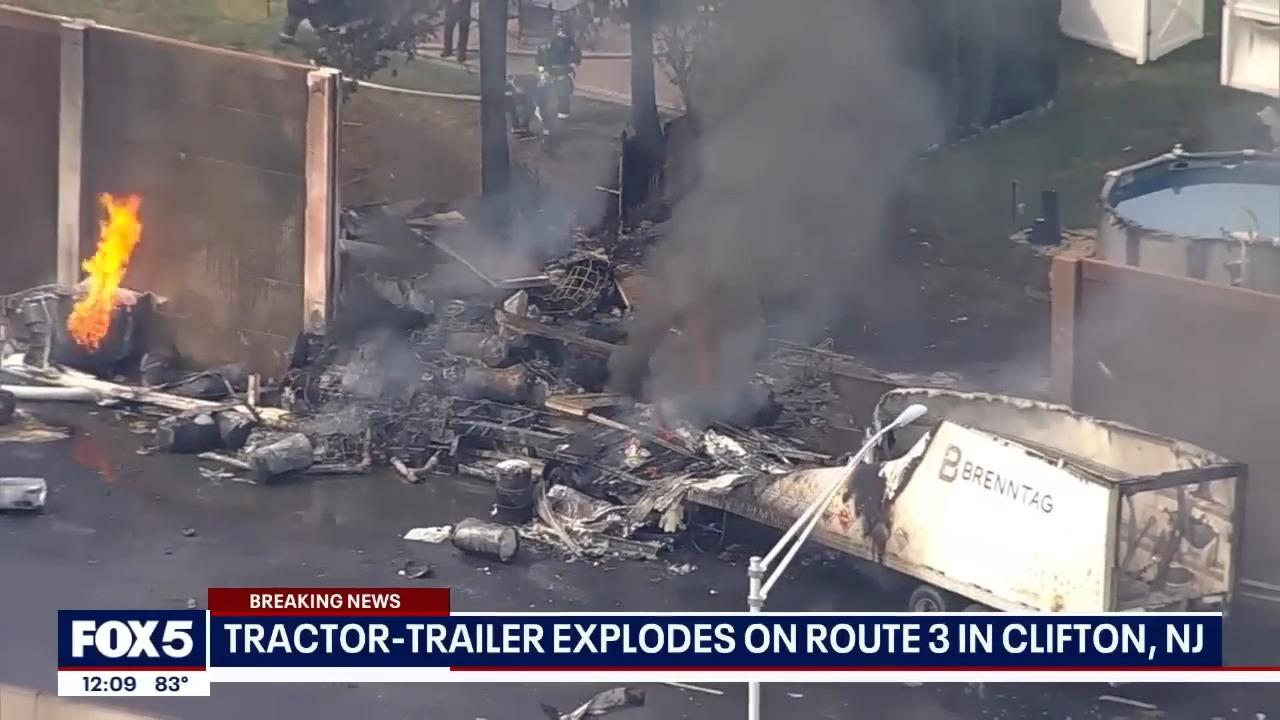fire: (59, 172, 157, 351)
